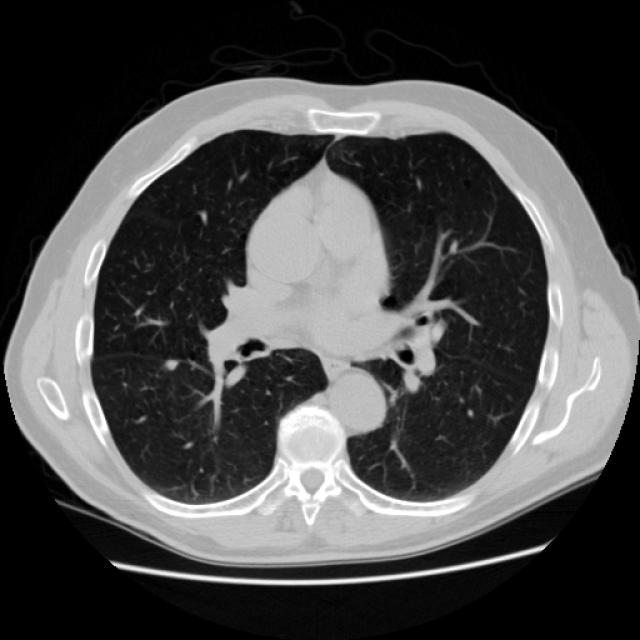nodule: (155, 349, 185, 379)
